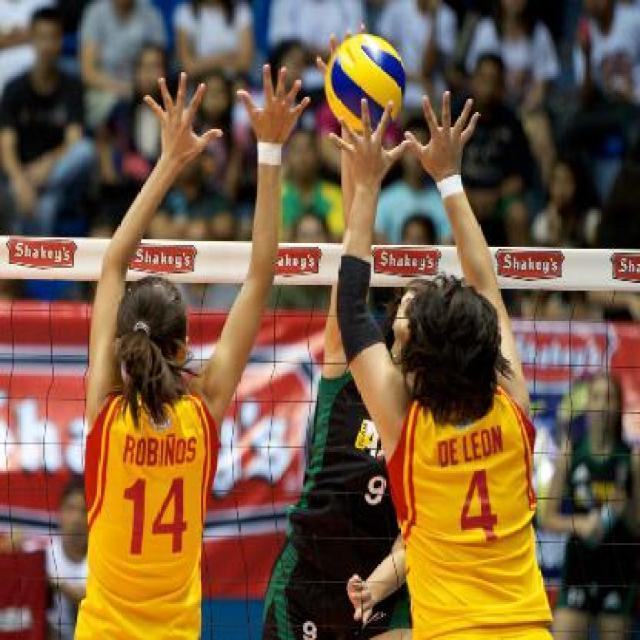volleyball: (325, 35, 406, 135)
